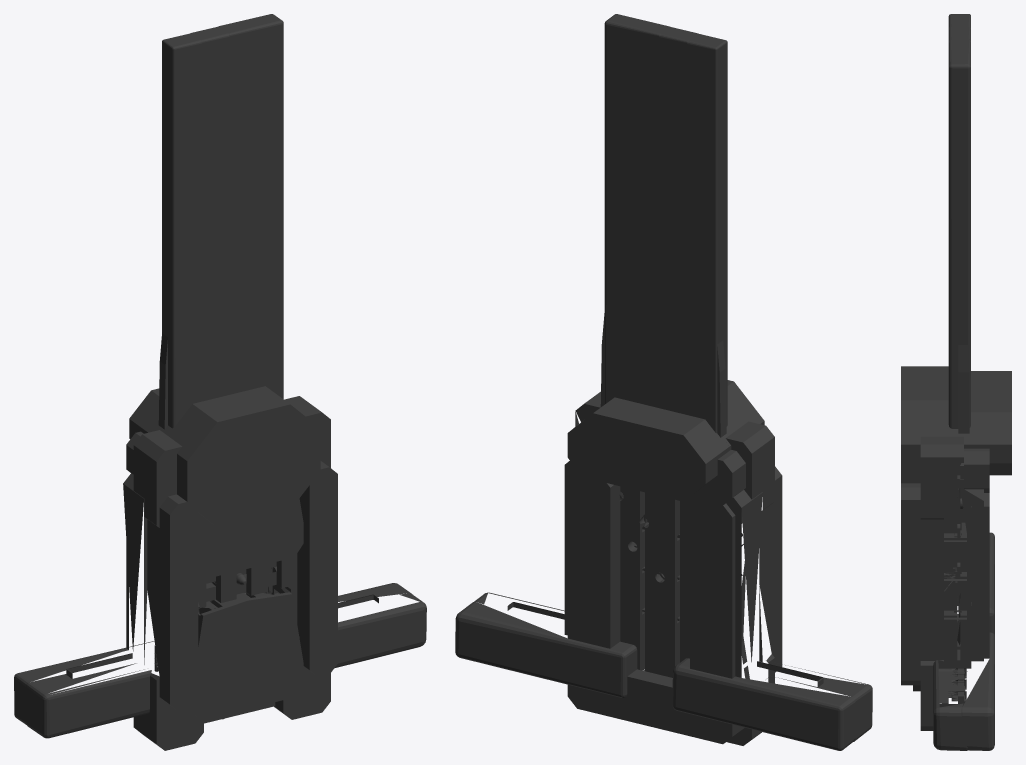
The model's file is tmp_mechanical_door_preview.glb.
3 views of the same model, side by side, from view 1: azimuth 30°, elevation 25°; view 2: azimuth 150°, elevation 25°; view 3: azimuth 270°, elevation 25° (orthographic). The views are drawn at different scales.
Visible parts, largest first — view 1: hinge_top, threshold_plate, lock_plate, handle, body, hinge_bottom; view 2: hinge_top, body, lock_plate, threshold_plate, handle, hinge_bottom, door_leaf; view 3: handle, lock_plate, threshold_plate, body, hinge_top, door_leaf.
Boxes of the visible parts, x1,y1,x2,y2 form: hinge_top: (123, 26, 316, 696); threshold_plate: (14, 485, 426, 750); lock_plate: (193, 14, 378, 719); handle: (188, 386, 337, 668); body: (126, 431, 288, 671); hinge_bottom: (67, 575, 220, 740); hinge_top: (572, 28, 782, 675); body: (565, 411, 751, 744); lock_plate: (507, 14, 694, 619); threshold_plate: (455, 476, 872, 750); handle: (564, 397, 704, 635); hinge_bottom: (727, 518, 822, 745); door_leaf: (619, 491, 679, 671); handle: (901, 371, 1011, 679); lock_plate: (921, 27, 970, 578); threshold_plate: (901, 522, 994, 750); body: (938, 448, 991, 703); hinge_top: (901, 14, 1011, 412); door_leaf: (954, 458, 969, 667).
Size of the model in its own units: 542 by 928 by 142.
1 material, 1 textured.
